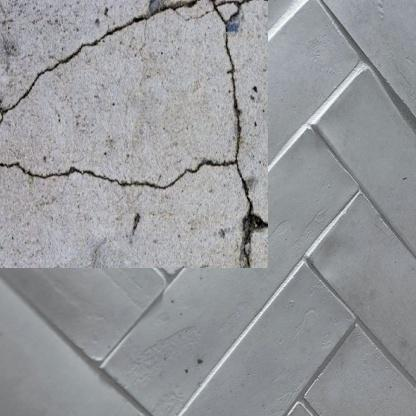Cracks: (0, 0, 247, 247)
